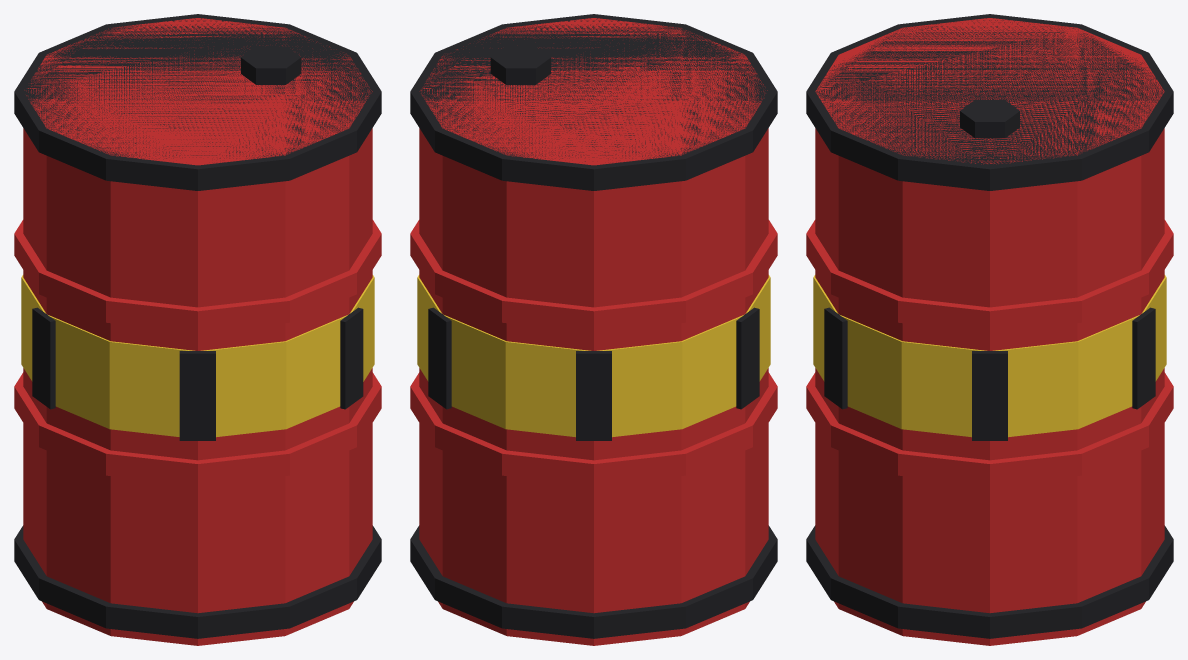
The model's file is p_barrel.glb.
3 renders of one model, left to right at view 1: azimuth 30°, elevation 25°; view 2: azimuth 150°, elevation 25°; view 3: azimuth 270°, elevation 25°, orthographic.
Visible parts, largest first — view 1: barrel; view 2: barrel; view 3: barrel.
Boxes of the visible parts, bbox=[...] form: barrel: bbox=[14, 14, 381, 645]; barrel: bbox=[410, 14, 777, 645]; barrel: bbox=[806, 14, 1173, 645].
Size of the model in its own units: 0.61 by 0.91 by 0.61.
